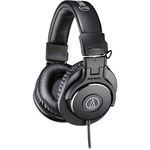headphones: (27, 0, 126, 133)
